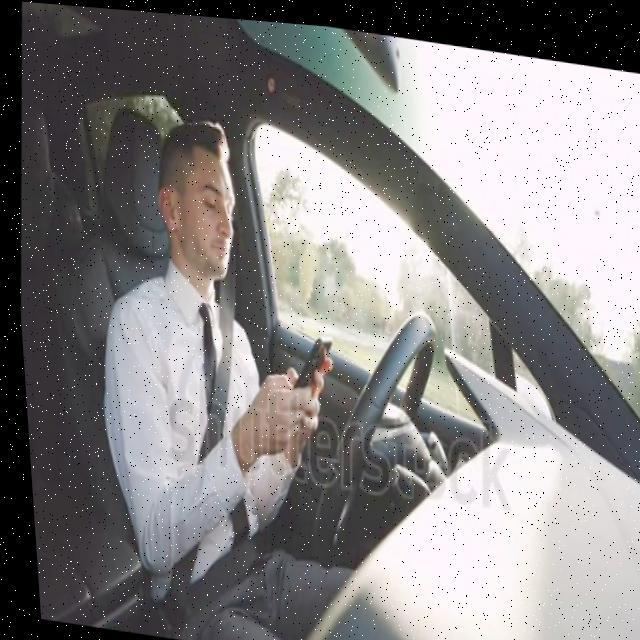PhoneCall: (275, 322, 330, 400)
